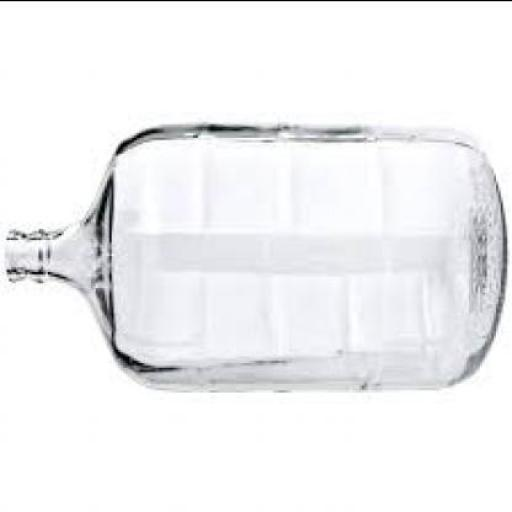glass: (4, 125, 500, 394)
